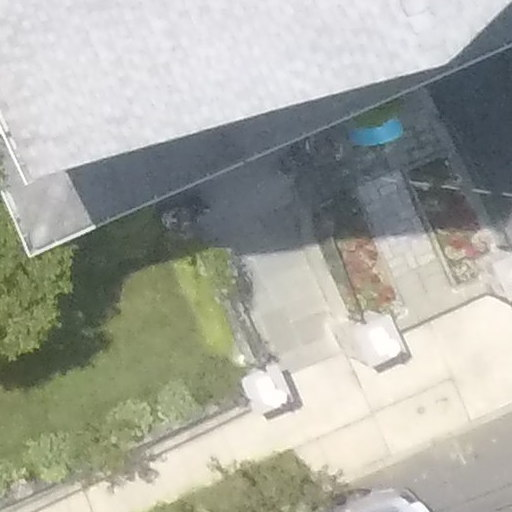flower bed: (306, 181, 408, 339), (398, 141, 497, 286)
